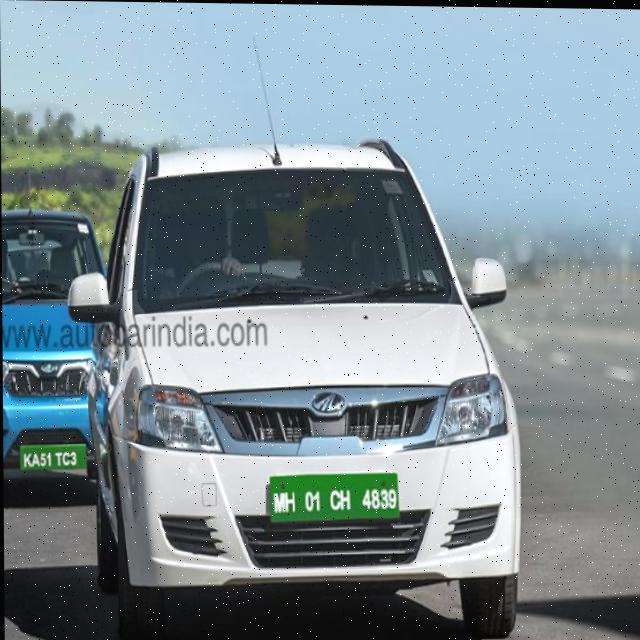plate: (264, 468, 399, 524), (14, 441, 93, 473)
